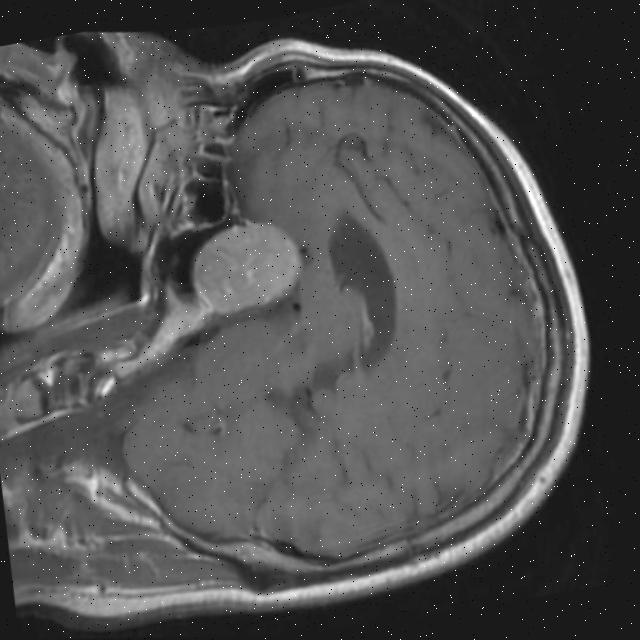Pituitary: (182, 214, 308, 319)
